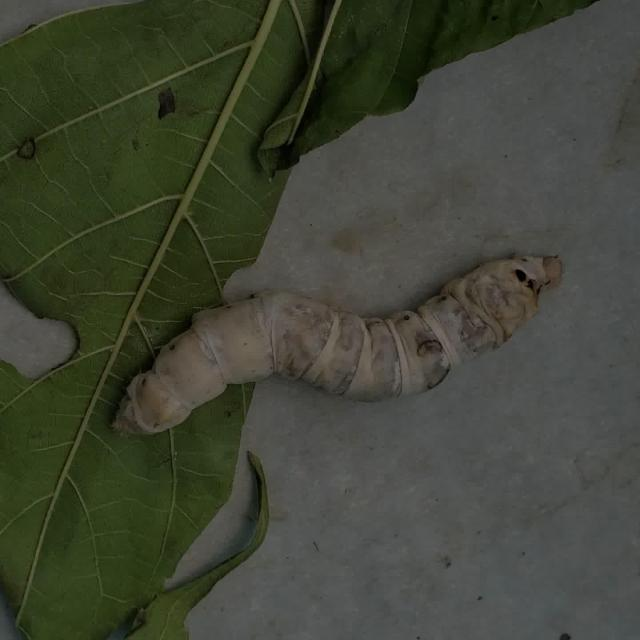Grasserie: (74, 214, 578, 457)
